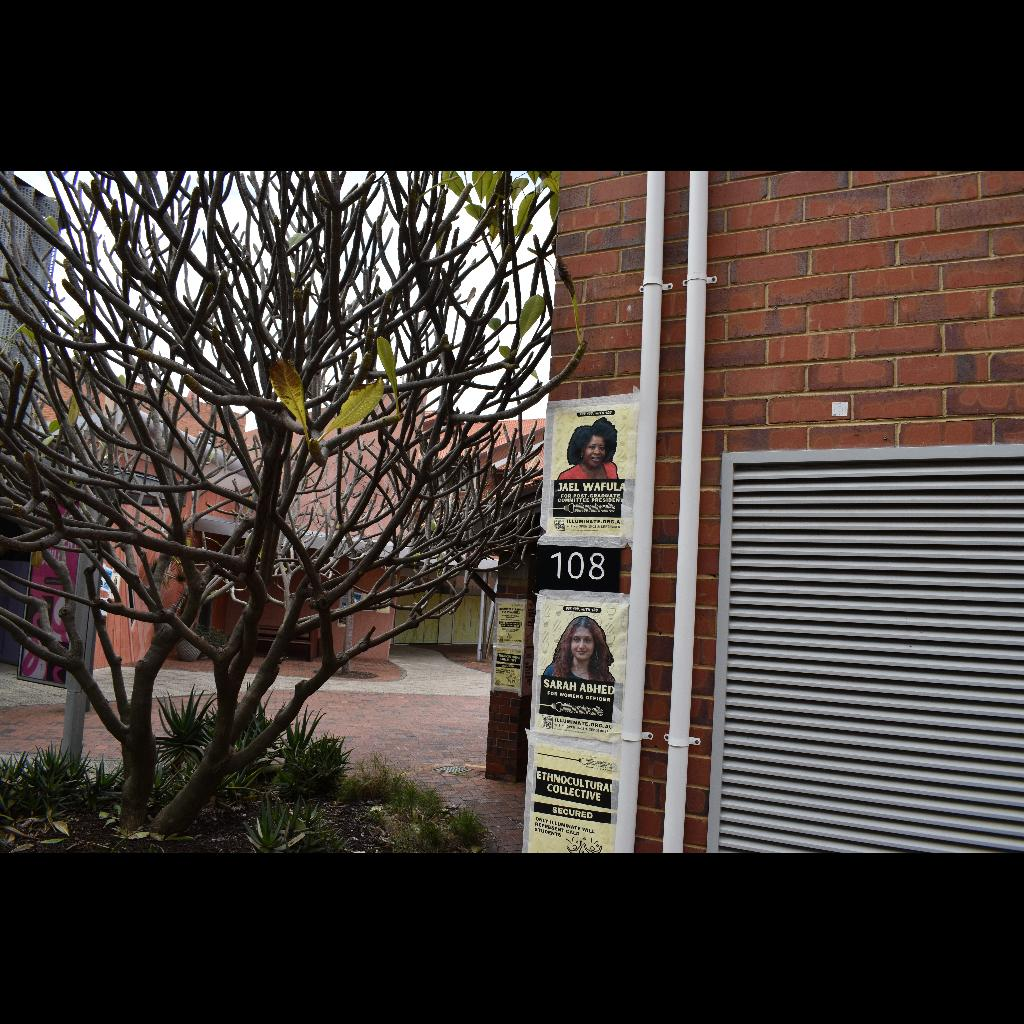BuildingCodes: (546, 549, 608, 583)
